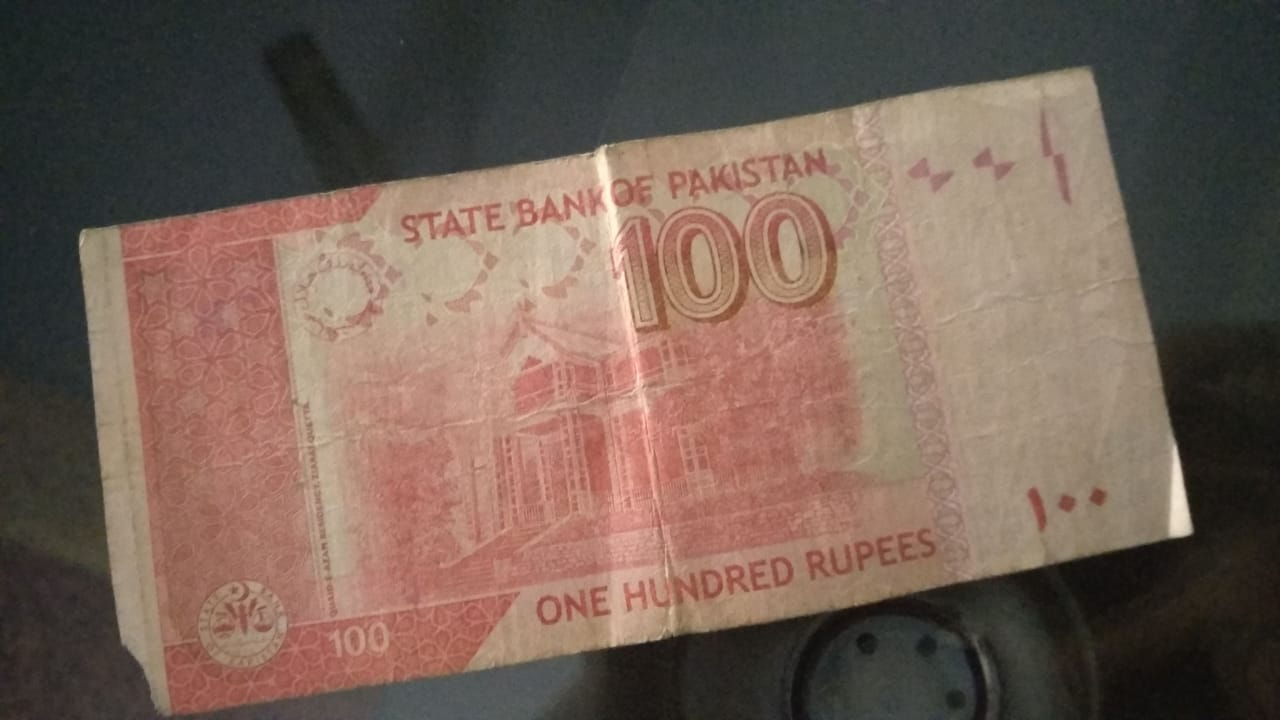100 rupee: (59, 52, 1237, 687)
